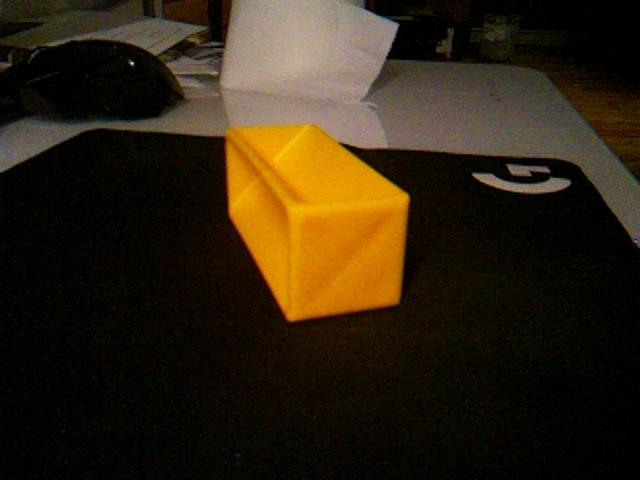yellow: (224, 122, 411, 323)
